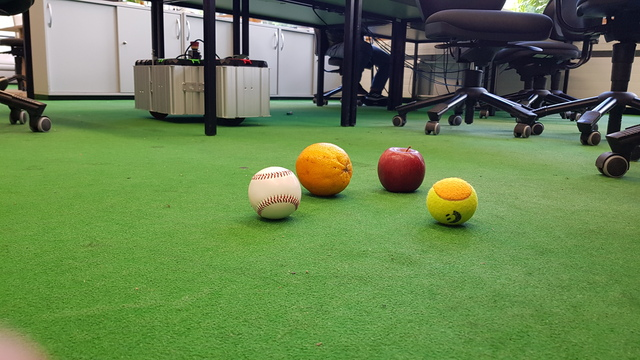013_apple: (377, 146, 427, 194)
017_orange: (296, 142, 354, 197)
055_baseball: (247, 166, 303, 221)
056_tennis_ball: (426, 176, 479, 227)
